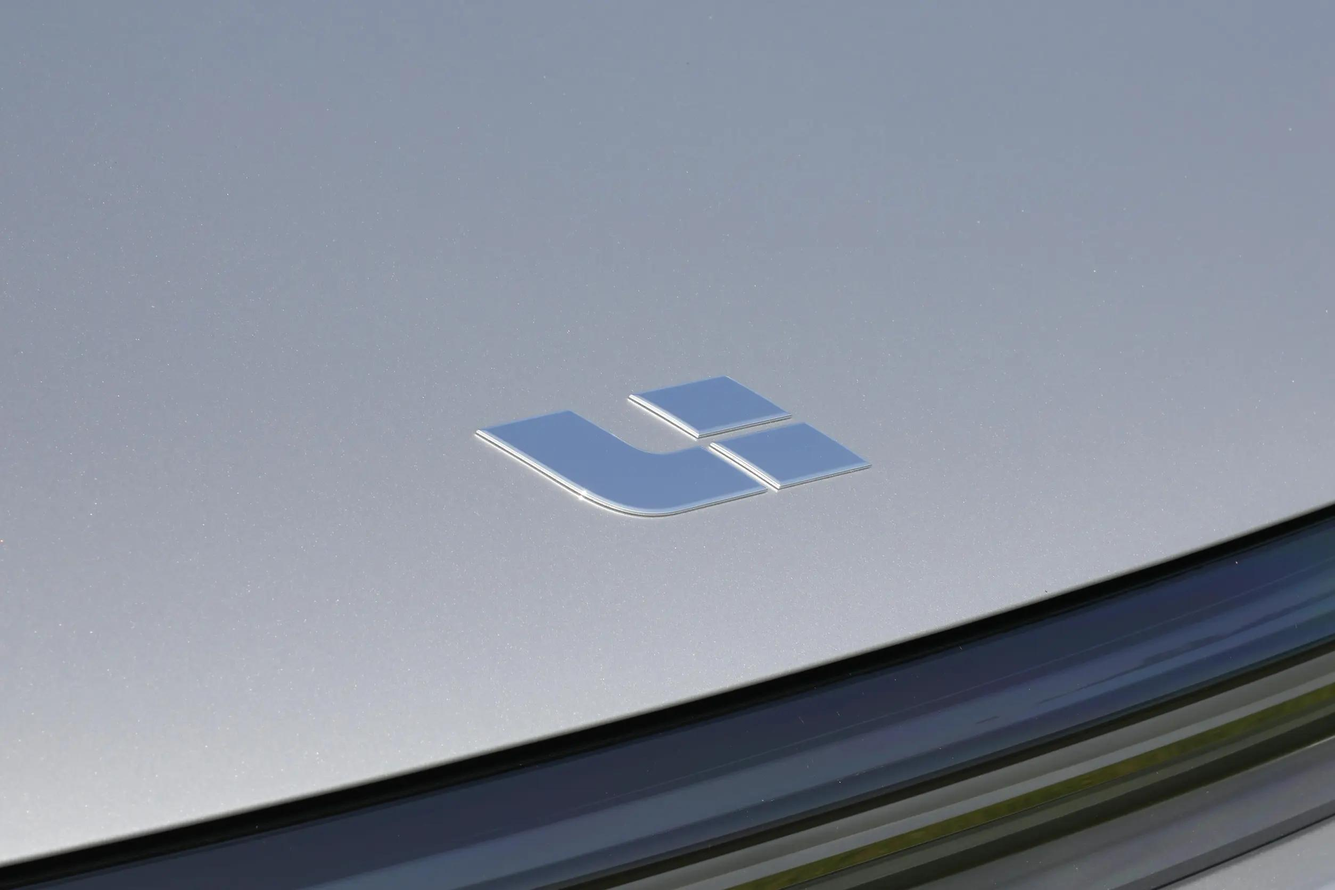Li Auto: (475, 370, 873, 520)
